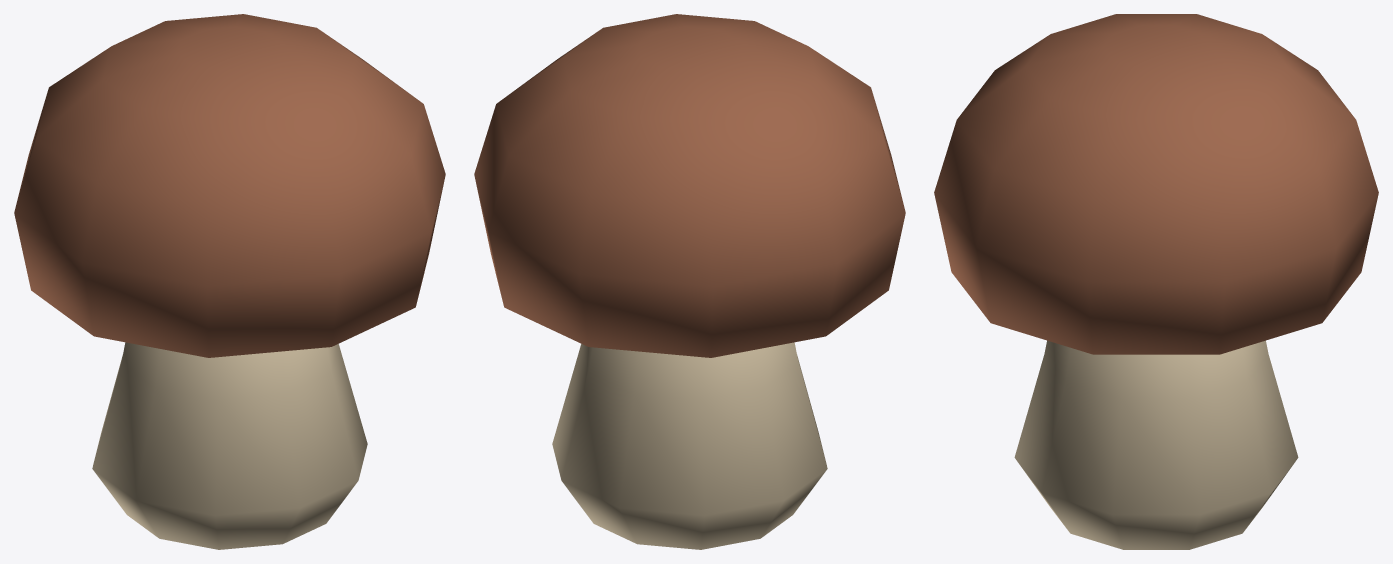
Rendered from Mushroom_LightBrown_4.fbx.
3 renders of one model, left to right at view 1: azimuth 30°, elevation 25°; view 2: azimuth 150°, elevation 25°; view 3: azimuth 270°, elevation 25°, orthographic.
Parts seen in each view (by area): view 1: Cylinder.527, Cylinder.528; view 2: Cylinder.527, Cylinder.528; view 3: Cylinder.527, Cylinder.528.
Part boxes in pixels (x1,y1,x2,y2): Cylinder.527: [14, 14, 445, 357]; Cylinder.528: [92, 342, 367, 549]; Cylinder.527: [474, 14, 905, 357]; Cylinder.528: [552, 342, 827, 549]; Cylinder.527: [934, 14, 1378, 354]; Cylinder.528: [1014, 340, 1298, 549].
Bounding box in the file's own units: 77.71 × 93.27 × 81.71.
